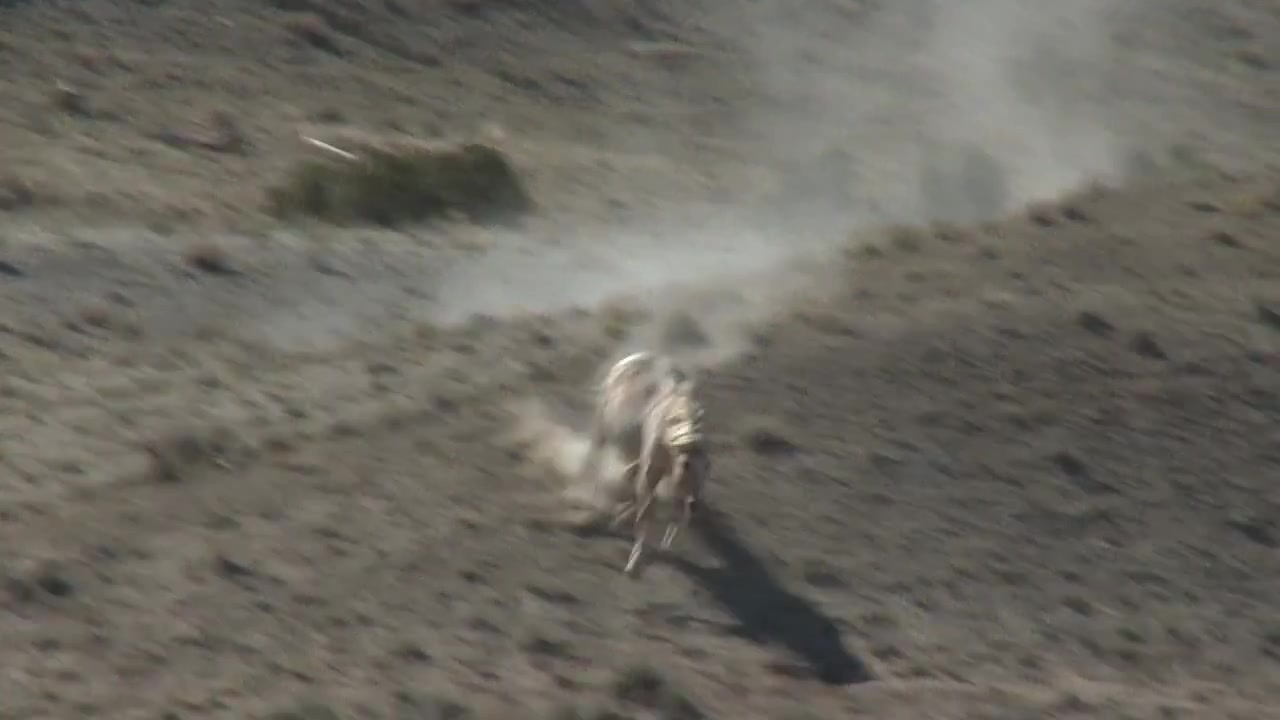horse: (580, 351, 714, 581)
